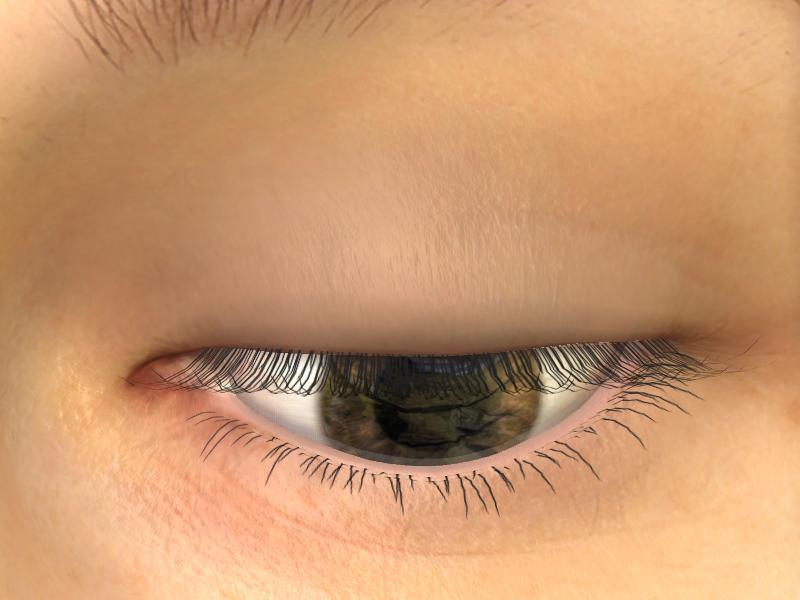eye: (317, 351, 544, 464)
